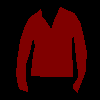felpa: (16, 6, 86, 92)
